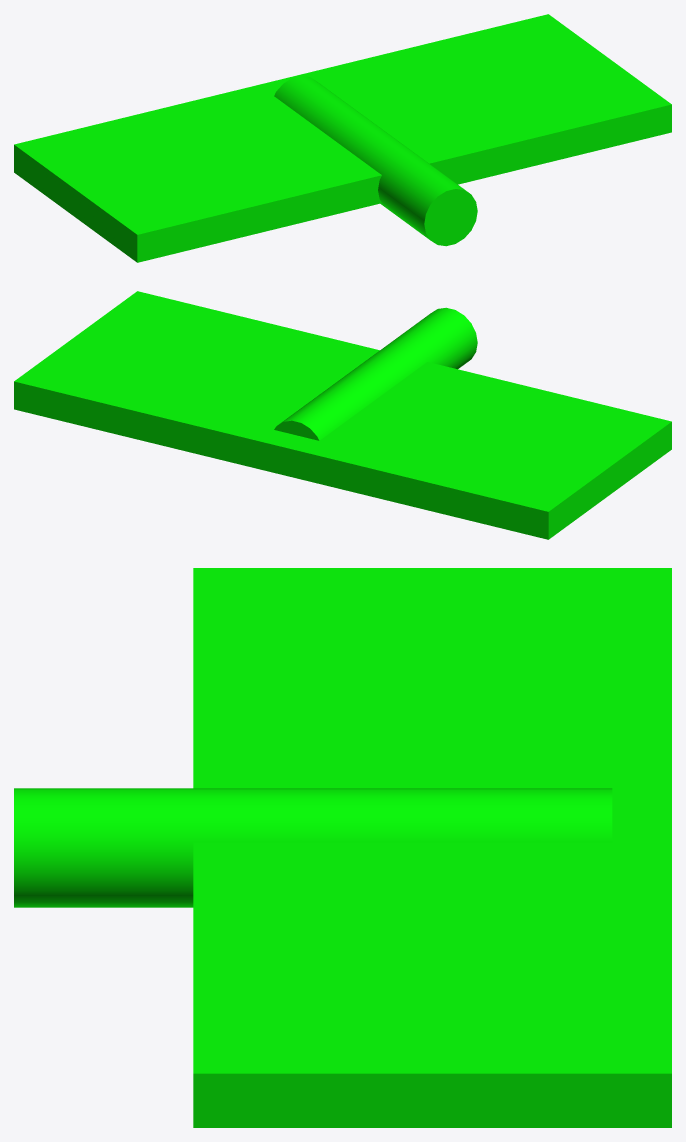
Rendered from Robot_Screw.FBX.
3 renders of one model, top to bottom at view 1: azimuth 30°, elevation 25°; view 2: azimuth 150°, elevation 25°; view 3: azimuth 270°, elevation 25°, orthographic. The views are drawn at different scales.
Visible parts, largest first — view 1: Spring; view 2: Spring; view 3: Spring.
Part boxes in pixels (<box>): Spring: <box>14,14,671,262</box>; Spring: <box>14,291,671,539</box>; Spring: <box>14,568,671,1127</box>.
Size of the model in its own units: 2 by 0.197 by 1.1.
